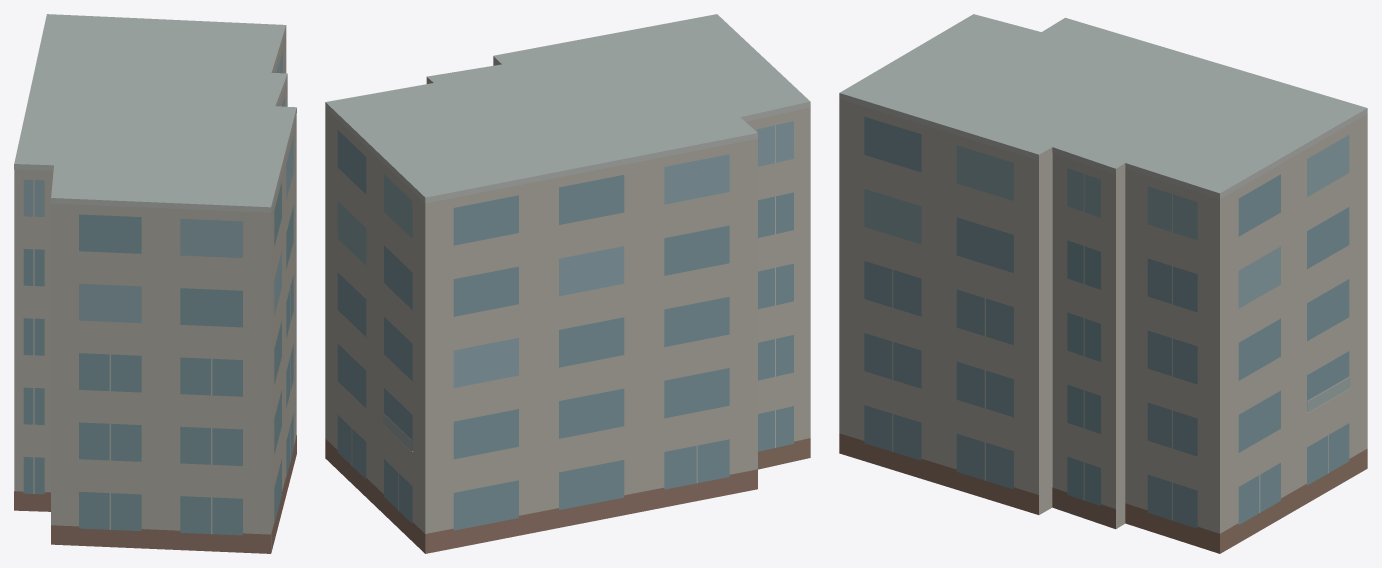
Rendered from survey-upis-32997118.glb.
The picture shows the model from 3 angles, left to right: view 1: azimuth 30°, elevation 25°; view 2: azimuth 150°, elevation 25°; view 3: azimuth 270°, elevation 25°; orthographic projection. The views are drawn at different scales.
Parts seen in each view (by area): view 1: survey-upis-32997118.tmp; view 2: survey-upis-32997118.tmp; view 3: survey-upis-32997118.tmp.
Boxes of the visible parts, x1=… form: survey-upis-32997118.tmp: x1=14, y1=14, x2=296, y2=553; survey-upis-32997118.tmp: x1=325, y1=14, x2=810, y2=553; survey-upis-32997118.tmp: x1=839, y1=14, x2=1367, y2=553.
Size of the model in its own units: 16.24 by 15.2 by 20.2.
